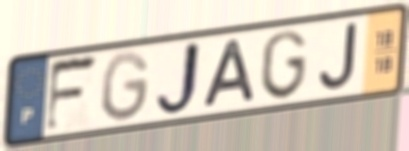A: (200, 36, 258, 111)
F: (43, 51, 101, 137)
G: (100, 48, 153, 125), (259, 27, 309, 102)
J: (152, 38, 204, 120), (316, 20, 359, 94)
